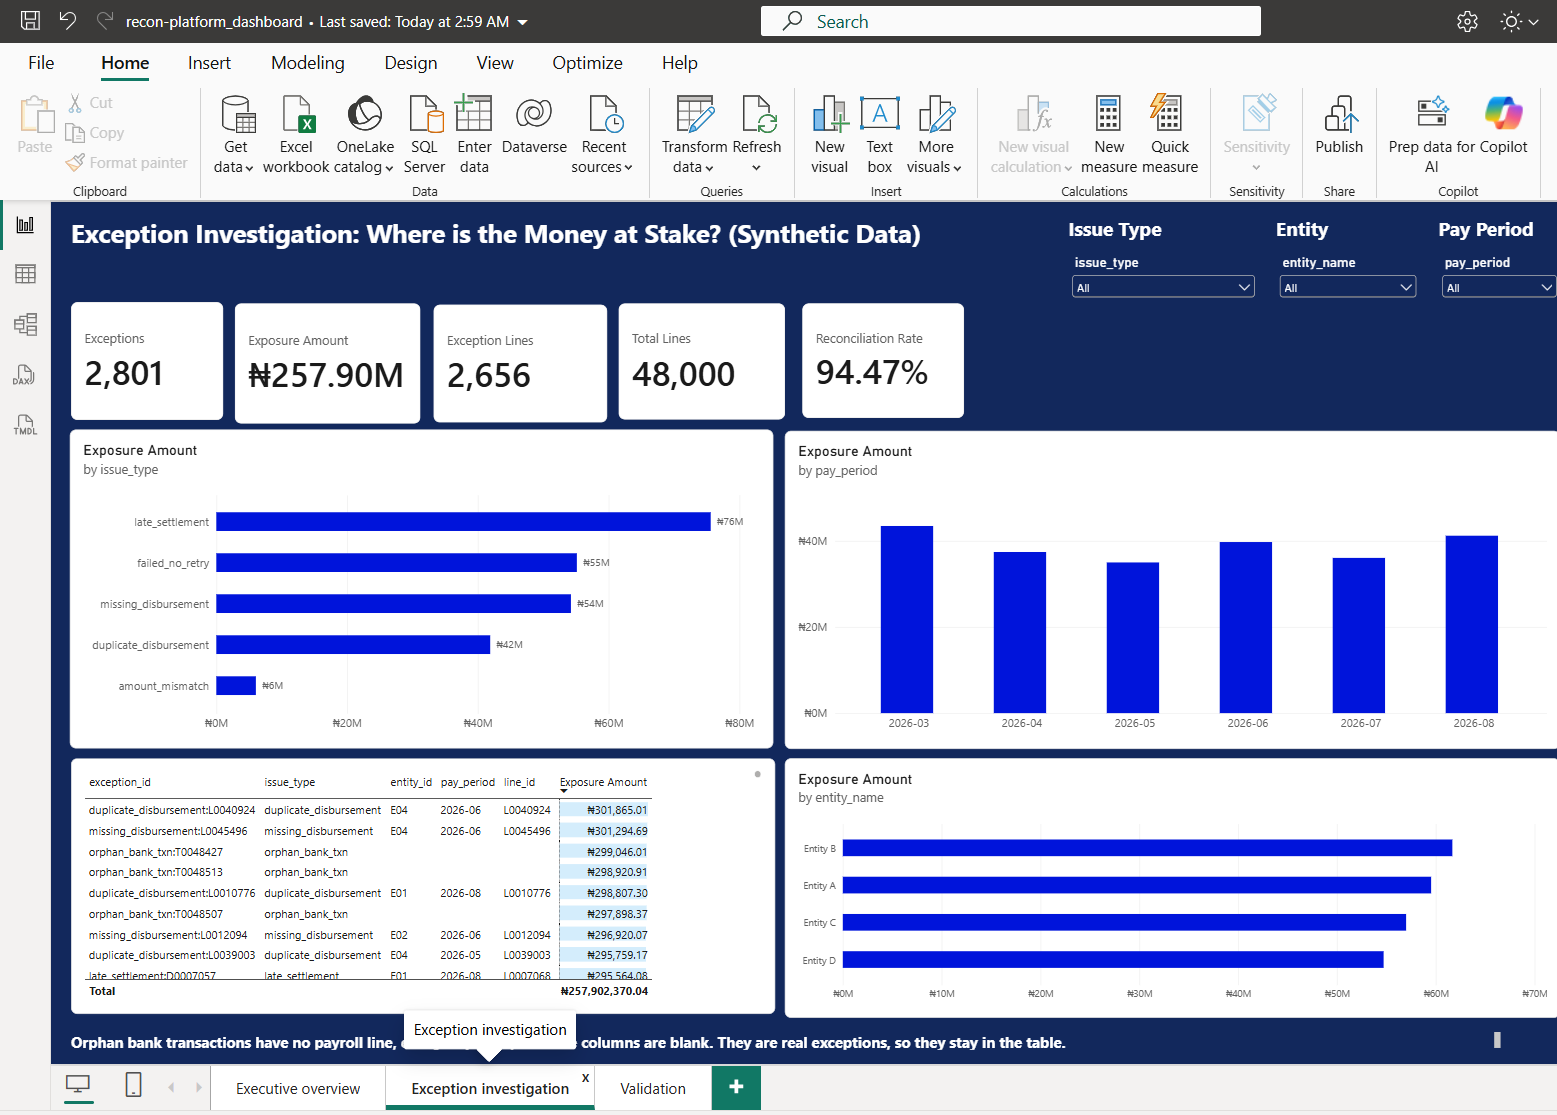

The page's visual inventory and layout, read from the dashboard file:
{"tool":"powerbi","page":{"name":"Exception investigation","canvas":[1920,1080],"ordinal":1},"visuals":[{"type":"cardVisual","fields":{"Data":["fct_reconciliation.Reconciliation Rate"]},"box":[941.6,126.3,203.8,144.1],"z":0},{"type":"cardVisual","fields":{"Data":["fct_reconciliation.Exception Lines"]},"box":[480.1,127.8,218.2,148.2],"z":1000},{"type":"cardVisual","fields":{"Data":["fct_reconciliation.Total Lines"]},"box":[712.4,126.3,209.9,146.1],"z":2000},{"type":"cardVisual","fields":{"Data":["fct_exceptions.Exceptions"]},"box":[24.7,125.6,191.4,148.2],"z":3000},{"type":"cardVisual","fields":{"Data":["fct_exceptions.Exposure Amount"]},"box":[230.7,126.3,233.8,151.2],"z":4000},{"type":"slicer","title":"Entity","fields":{"Values":["dim_entity.entity_name"]},"box":[1535.5,16.5,181.1,253.2],"z":5000},{"type":"slicer","title":"Pay Period","fields":{"Values":["dim_period.pay_period"]},"box":[1739.3,16.5,154.4,158.5],"z":6000},{"type":"clusteredBarChart","fields":{"Category":["fct_exceptions.issue_type"],"Y":["fct_exceptions.Exposure Amount"]},"box":[24,286,882,400],"z":7000},{"type":"tableEx","fields":{"Values":["fct_exceptions.exception_id","fct_exceptions.issue_type","fct_exceptions.entity_id","dim_period.pay_period","fct_exceptions.line_id","fct_exceptions.Exposure Amount"]},"box":[24.7,697.8,883,321.1],"z":8000},{"type":"textbox","box":[24.7,16.5,1259.7,43.2],"z":9000},{"type":"textbox","box":[24.7,1041.5,1792.8,22.6],"z":10000},{"type":"slicer","title":"Issue Type","fields":{"Values":["fct_exceptions.issue_type"]},"box":[1276.2,16.5,238.8,236.7],"z":11000},{"type":"clusteredColumnChart","fields":{"Category":["dim_period.pay_period"],"Y":["fct_exceptions.Exposure Amount"]},"box":[920.1,286.1,973.6,399.3],"z":12000},{"type":"barChart","fields":{"Category":["dim_entity.entity_name"],"Y":["fct_exceptions.Exposure Amount"]},"box":[920.1,697.8,973.6,325.2],"z":13000}]}

Visuals, with their boxes on the page's 1920x1080 design canvas (x1, y1, x2, y2). These are canvas units, not pixel positions in the 1557x1115 screenshot, which may show the page scaled, cropped or inside an application window:
cardVisual - fct_reconciliation.Reconciliation Rate: [942, 126, 1145, 270]
cardVisual - fct_reconciliation.Exception Lines: [480, 128, 698, 276]
cardVisual - fct_reconciliation.Total Lines: [712, 126, 922, 272]
cardVisual - fct_exceptions.Exceptions: [25, 126, 216, 274]
cardVisual - fct_exceptions.Exposure Amount: [231, 126, 464, 278]
"Entity" slicer: [1536, 16, 1717, 270]
"Pay Period" slicer: [1739, 16, 1894, 175]
clusteredBarChart - fct_exceptions.issue_type x fct_exceptions.Exposure Amount: [24, 286, 906, 686]
tableEx - fct_exceptions.exception_id x fct_exceptions.issue_type: [25, 698, 908, 1019]
textbox: [25, 16, 1284, 60]
textbox: [25, 1042, 1818, 1064]
"Issue Type" slicer: [1276, 16, 1515, 253]
clusteredColumnChart - dim_period.pay_period x fct_exceptions.Exposure Amount: [920, 286, 1894, 685]
barChart - dim_entity.entity_name x fct_exceptions.Exposure Amount: [920, 698, 1894, 1023]
